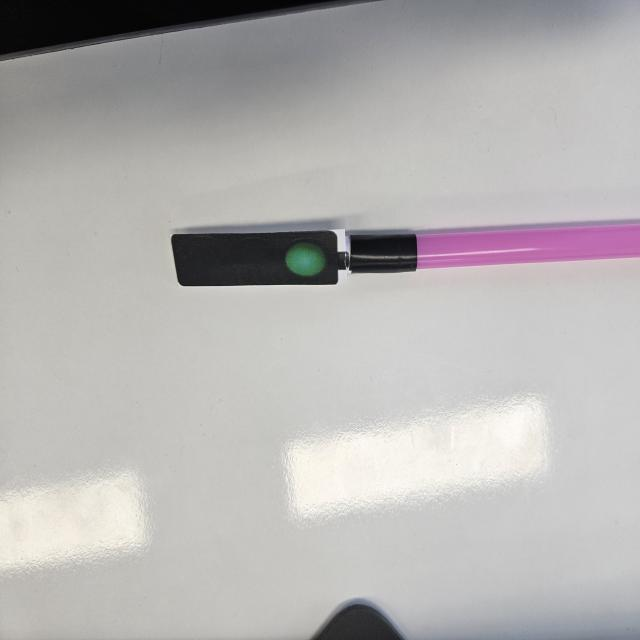traffic light: (171, 231, 346, 288)
